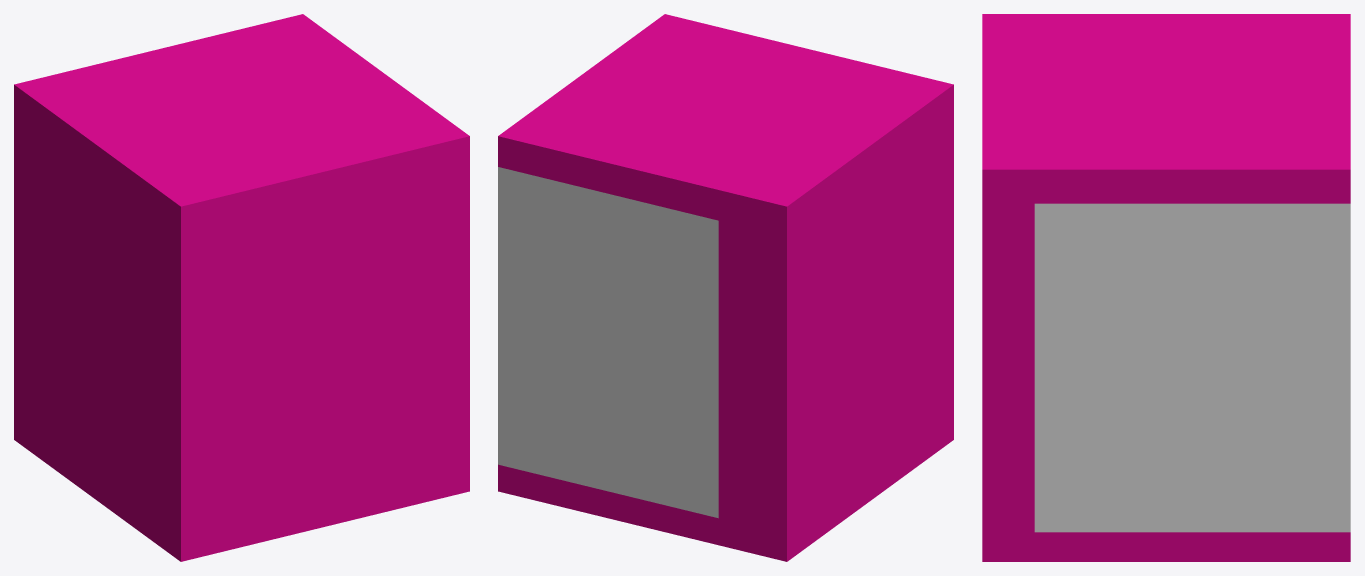
The model's file is Grumblo box.fbx.
The picture shows the model from 3 angles, left to right: view 1: azimuth 30°, elevation 25°; view 2: azimuth 150°, elevation 25°; view 3: azimuth 270°, elevation 25°; orthographic projection. The views are drawn at different scales.
Visible parts, largest first — view 1: Icosphere.001; view 2: Icosphere.001; view 3: Icosphere.001.
Part boxes in pixels (<box>): Icosphere.001: <box>14,14,469,561</box>; Icosphere.001: <box>498,14,953,561</box>; Icosphere.001: <box>982,14,1350,561</box>.
Bounding box in the file's own units: 423 × 497 × 423.
